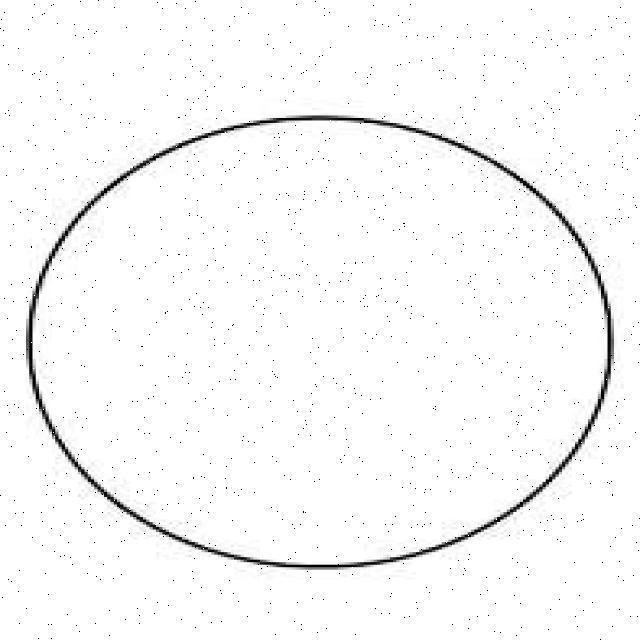Circle: (26, 113, 613, 568)
